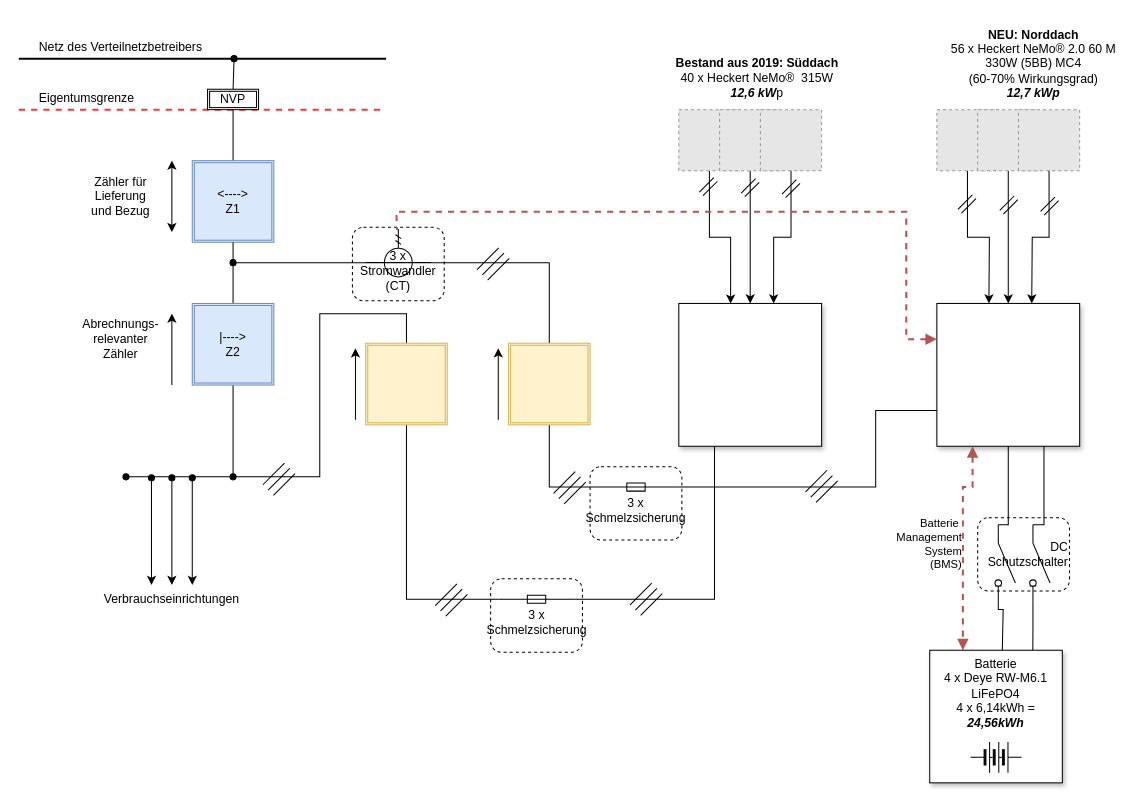
The diagram is 1146 pixels wide and 808 high, and some of its shapes have lost their labels. Grey dashed boxes stand in for pictures. Here are the shapes that lost their labels. From the top down, the centre of each, then its label:
At point 406,383: "|----> Z4".
At point 548,383: "<----> Z3".
At point 751,375: "KACO blueplanet 15.0 TL3 max. 15 kW to Grid".
At point 1009,375: "SUN-12K-SG04LP3-EU max. 12kW to Grid".
